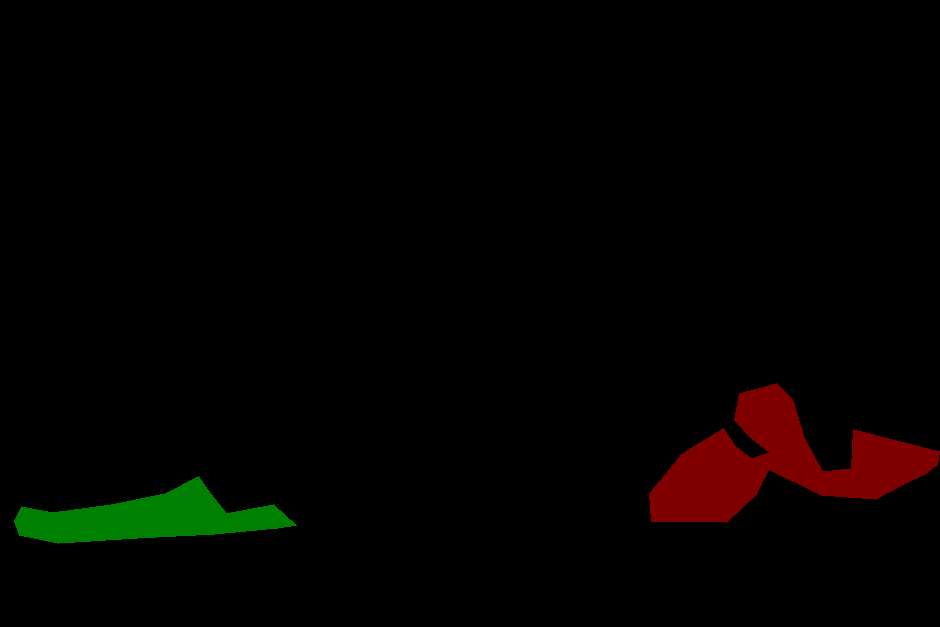fire: (649, 383, 939, 522), (14, 476, 296, 543)
